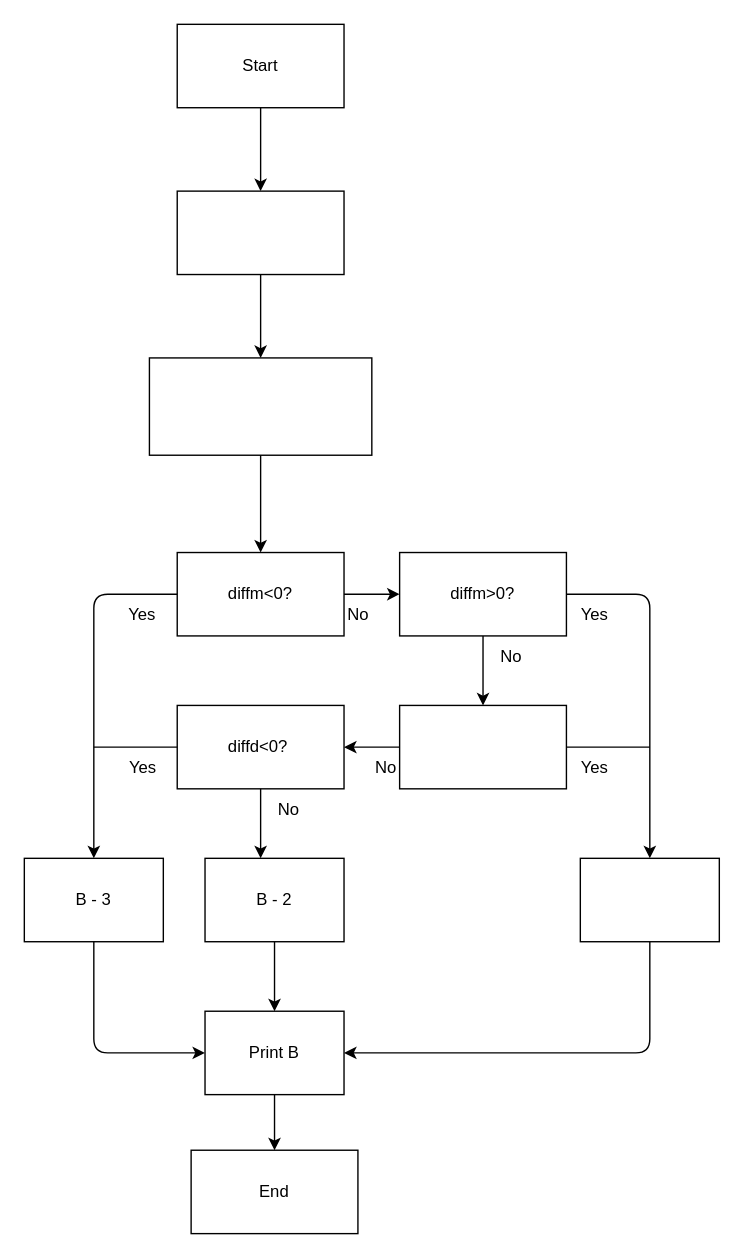
The diagram is 744 pixels wide and 1258 high, and some of its shapes have lost their labels. The shapes that lost their labels are listed below. From the top down, each one's centre as x and y in pixels, then its label:
At (x=260, y=232): "Int D1,M1,Y1,D2,M2,Y".
At (x=260, y=406): "diffm = M1-M2+(Y1-Y2)*12 diffd = D1-D2".
At (x=482, y=746): "diffd>0?".
At (x=649, y=899): "B - 1".
